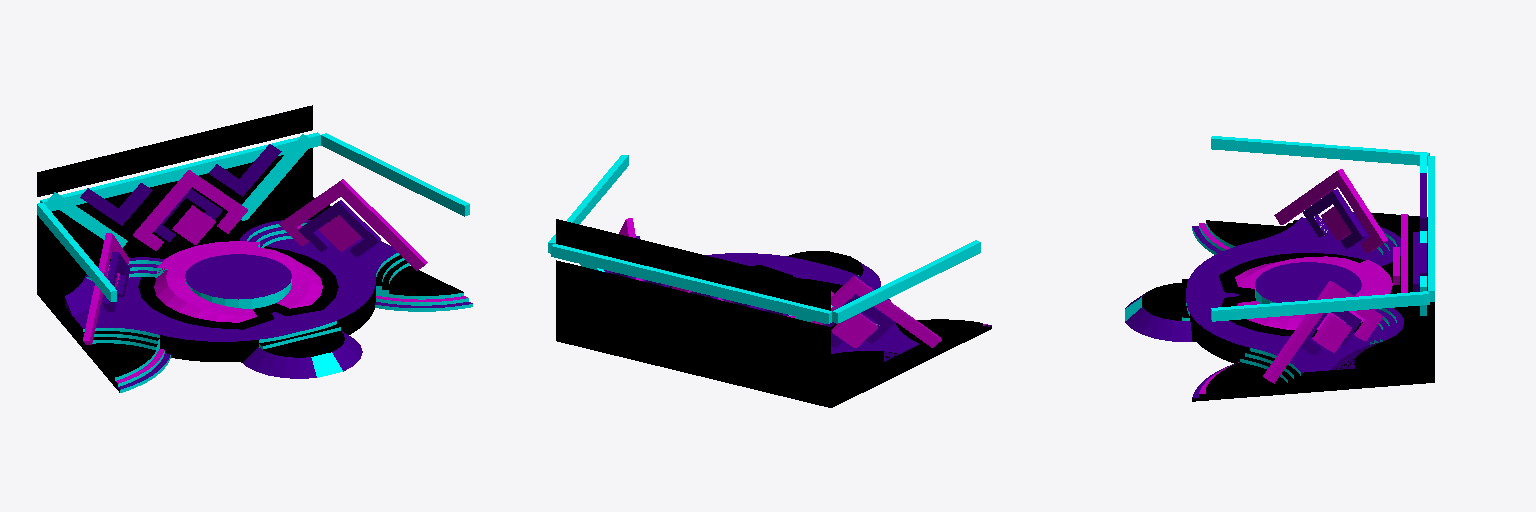
The model's file is Stage42.obj.
The picture shows the model from 3 angles: view 1: azimuth 30°, elevation 25°; view 2: azimuth 150°, elevation 25°; view 3: azimuth 270°, elevation 25°; orthographic projection.
Visible parts, largest first — view 1: Mesh35 Model, Mesh33 Group18 Model, Mesh31 Group17 Model, Mesh23 Group13 Model, Mesh19 Group11 Model, Mesh7 Group5 Group2 Model, Mesh41 Model, Mesh17 Group10 Model, Mesh3 Group3 Group2 Model, Mesh40 Model, Mesh5 Group4 Group2 Model, Mesh11 Group7 Model (+11 smaller); view 2: Mesh35 Model, Mesh31 Group17 Model, Mesh33 Group18 Model, Mesh7 Group5 Group2 Model, Mesh5 Group4 Group2 Model, Mesh38 Model, Mesh3 Group3 Group2 Model, Mesh37 Model, Mesh13 Group8 Model, Mesh29 Group16 Model, Mesh36 Model; view 3: Mesh35 Model, Mesh23 Group13 Model, Mesh3 Group3 Group2 Model, Mesh5 Group4 Group2 Model, Mesh38 Model, Mesh41 Model, Mesh19 Group11 Model, Mesh36 Model, Mesh27 Group15 Model, Mesh13 Group8 Model, Mesh29 Group16 Model, Mesh7 Group5 Group2 Model (+4 smaller).
Boxes of the visible parts, x1,y1,x2,y2 form: Mesh35 Model: [37, 197, 472, 392]; Mesh33 Group18 Model: [37, 105, 312, 196]; Mesh31 Group17 Model: [37, 148, 312, 263]; Mesh23 Group13 Model: [185, 254, 291, 299]; Mesh19 Group11 Model: [138, 246, 338, 329]; Mesh7 Group5 Group2 Model: [40, 132, 320, 211]; Mesh41 Model: [279, 179, 427, 270]; Mesh17 Group10 Model: [133, 170, 247, 250]; Mesh3 Group3 Group2 Model: [321, 133, 469, 216]; Mesh40 Model: [298, 200, 380, 256]; Mesh5 Group4 Group2 Model: [37, 203, 116, 301]; Mesh11 Group7 Model: [241, 134, 313, 220]; Mesh35 Model: [556, 253, 991, 407]; Mesh31 Group17 Model: [556, 260, 830, 376]; Mesh33 Group18 Model: [556, 219, 830, 310]; Mesh7 Group5 Group2 Model: [551, 244, 831, 323]; Mesh5 Group4 Group2 Model: [832, 240, 980, 323]; Mesh38 Model: [811, 276, 941, 347]; Mesh3 Group3 Group2 Model: [548, 155, 628, 253]; Mesh37 Model: [831, 313, 877, 347]; Mesh13 Group8 Model: [787, 251, 863, 276]; Mesh29 Group16 Model: [911, 319, 981, 349]; Mesh36 Model: [823, 294, 894, 347]; Mesh35 Model: [1125, 212, 1434, 401]; Mesh23 Group13 Model: [1255, 262, 1361, 302]; Mesh3 Group3 Group2 Model: [1211, 291, 1429, 321]; Mesh5 Group4 Group2 Model: [1211, 136, 1429, 165]; Mesh38 Model: [1274, 169, 1387, 252]; Mesh41 Model: [1263, 281, 1383, 383]; Mesh19 Group11 Model: [1219, 253, 1377, 336]; Mesh36 Model: [1303, 189, 1367, 248]; Mesh27 Group15 Model: [1206, 362, 1287, 389]; Mesh13 Group8 Model: [1142, 283, 1181, 320]; Mesh29 Group16 Model: [1206, 220, 1284, 245]; Mesh7 Group5 Group2 Model: [1428, 156, 1434, 301].
Bounding box in the file's own units: 50.53 × 16.42 × 37.75.